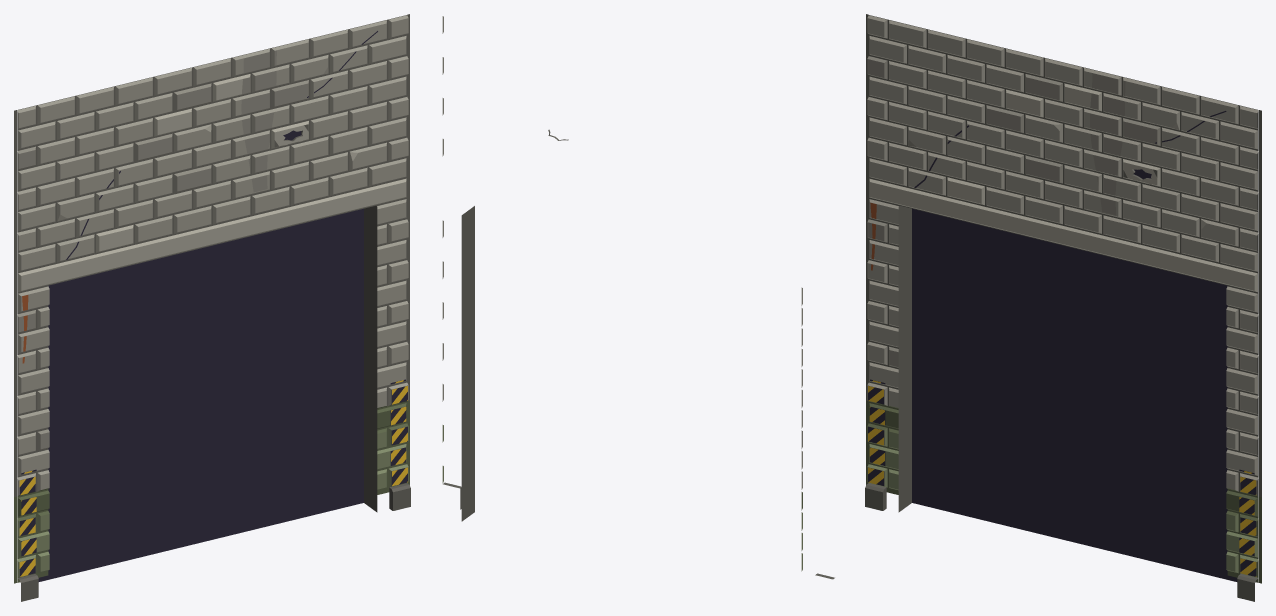
Rendered from wall_panel_door_c.glb.
3 views of the same model, side by side, from view 1: azimuth 30°, elevation 25°; view 2: azimuth 150°, elevation 25°; view 3: azimuth 330°, elevation 25° (orthographic).
Parts seen in each view (by area): view 1: Wall; view 2: Wall; view 3: Wall.
Part boxes in pixels (box(x1,y1,x2,y2)): Wall: box(14, 14, 410, 601); Wall: box(442, 16, 834, 579); Wall: box(865, 14, 1261, 601).
Bounding box in the file's own units: 5.08 × 6 × 0.35.
